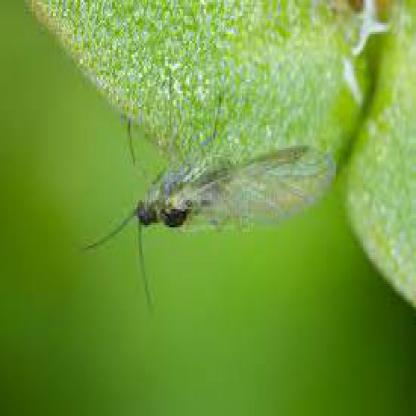schizaphis graminum: (136, 148, 338, 232)
